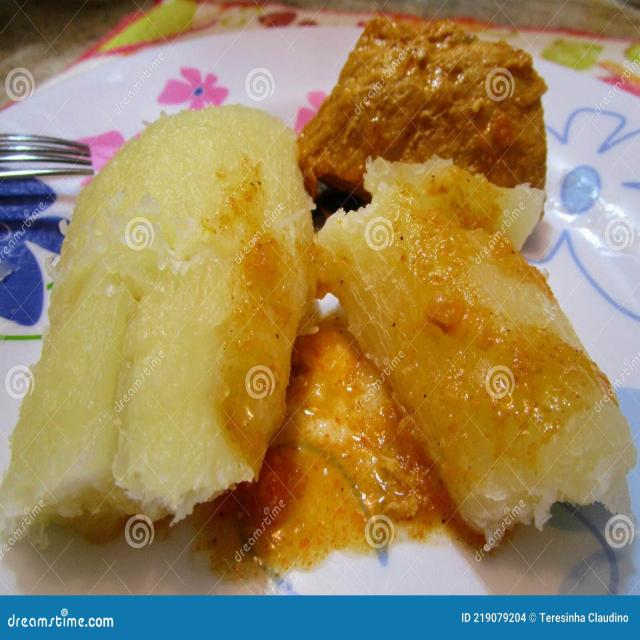yuca: (28, 94, 328, 578), (315, 154, 635, 560)
